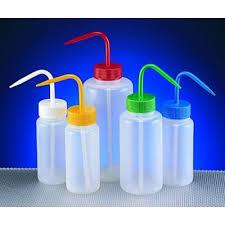LDPE: (62, 31, 133, 182), (120, 62, 181, 194), (35, 74, 101, 193), (8, 70, 66, 185), (162, 71, 216, 186)
